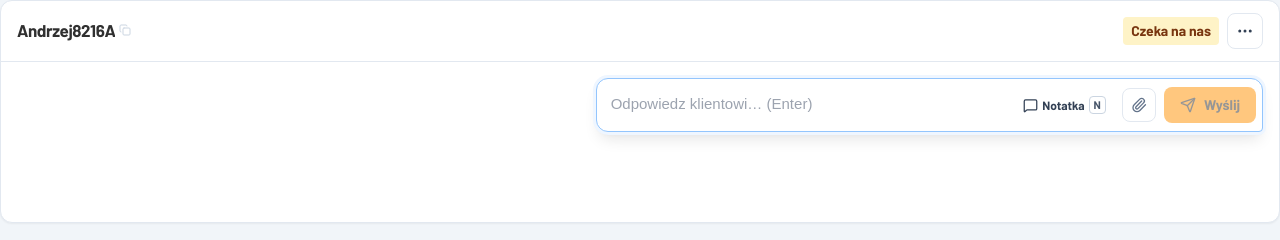
Test: Nagłówek rozmowy › własną rozmowę podpisuje „Ty”, nie własnym imieniem
This screenshot has width=1280, height=240.
Click the button named "Więcej czynności rozmowy" at (1245, 31), box 1227,13 -> 1263,49
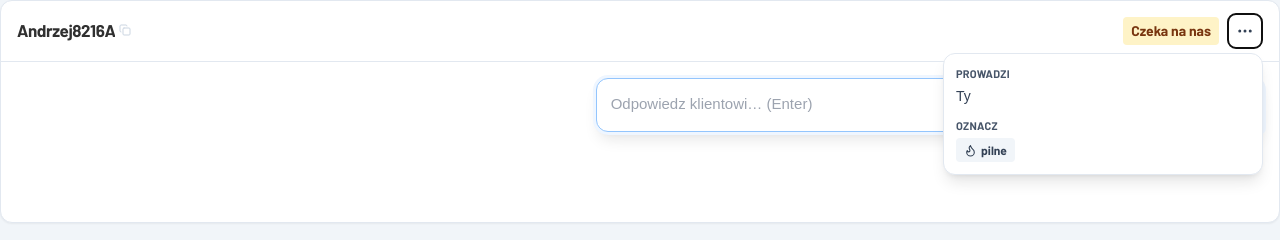
expect the text "Ty" is shown: met, box 956,86 -> 971,106
